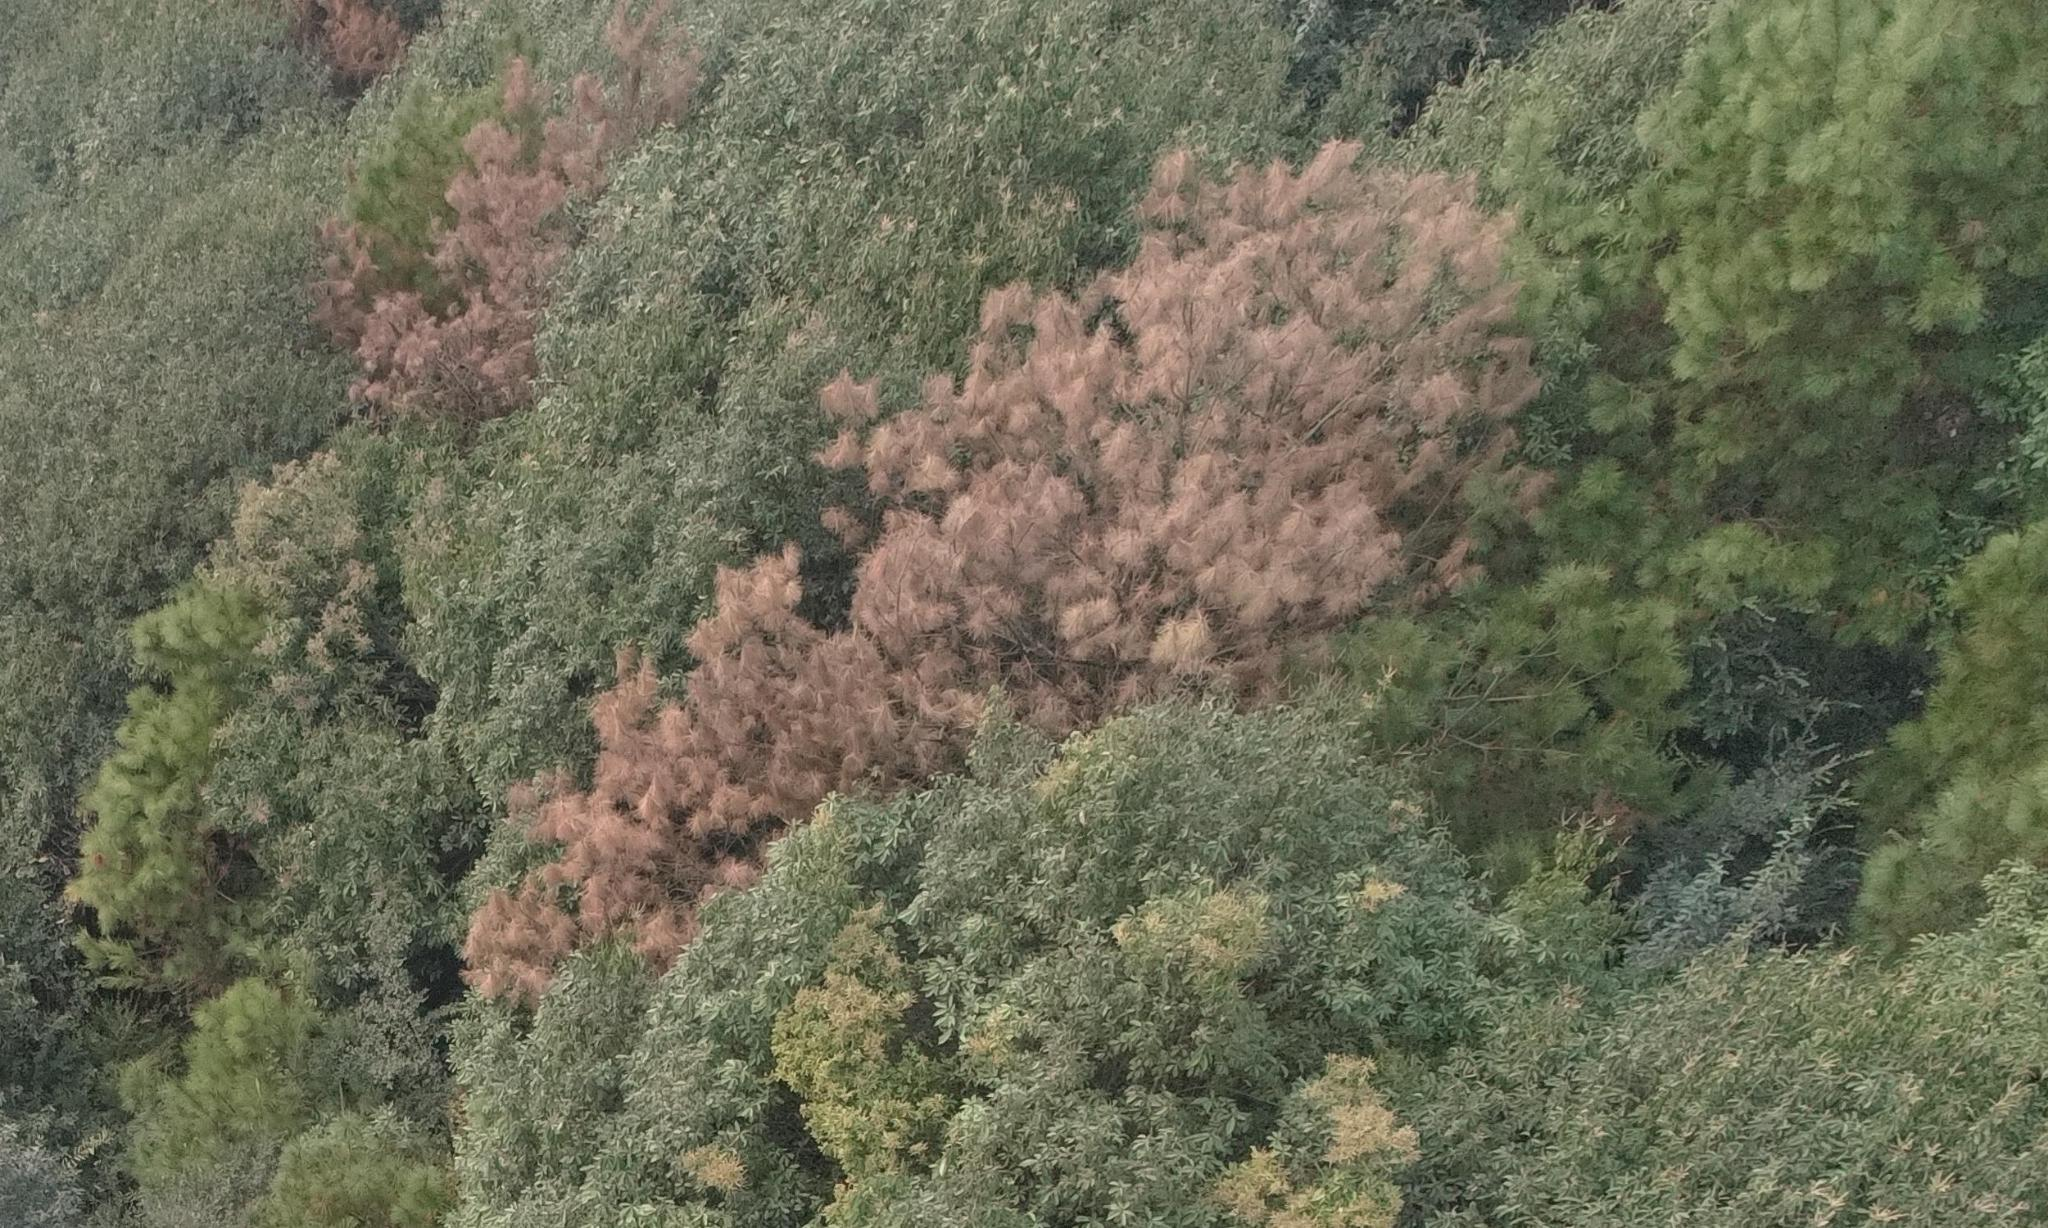heavy: (851, 129, 1560, 699), (462, 582, 892, 934), (336, 73, 586, 425)
